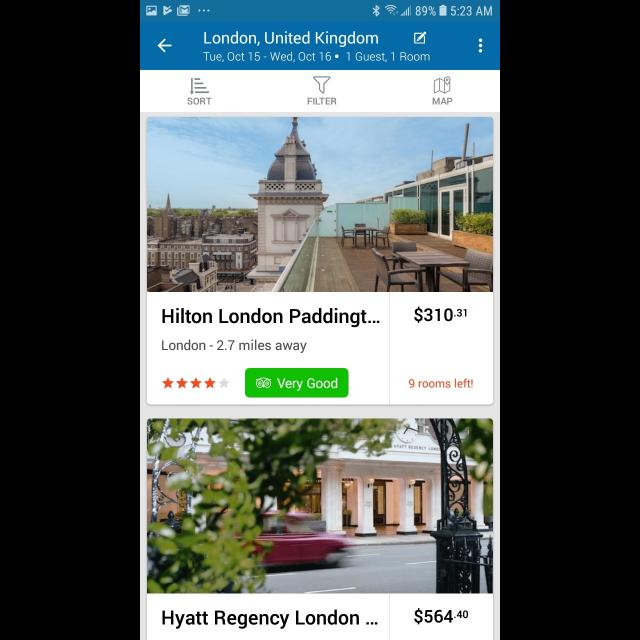icon: (162, 378, 230, 390), (190, 78, 210, 95), (434, 77, 451, 95), (158, 38, 172, 54), (414, 31, 426, 44), (478, 36, 482, 54)
image: (147, 418, 493, 594), (147, 118, 493, 292), (313, 77, 331, 95)
text: (162, 308, 380, 328), (162, 610, 378, 630), (204, 32, 378, 48), (202, 52, 430, 64), (162, 339, 306, 353), (414, 306, 466, 324), (414, 608, 468, 624), (409, 379, 473, 389), (308, 98, 337, 106), (188, 98, 212, 106), (433, 98, 453, 104)
textbutton: (245, 368, 349, 398)
uppertaskbar: (140, 1, 500, 22)
